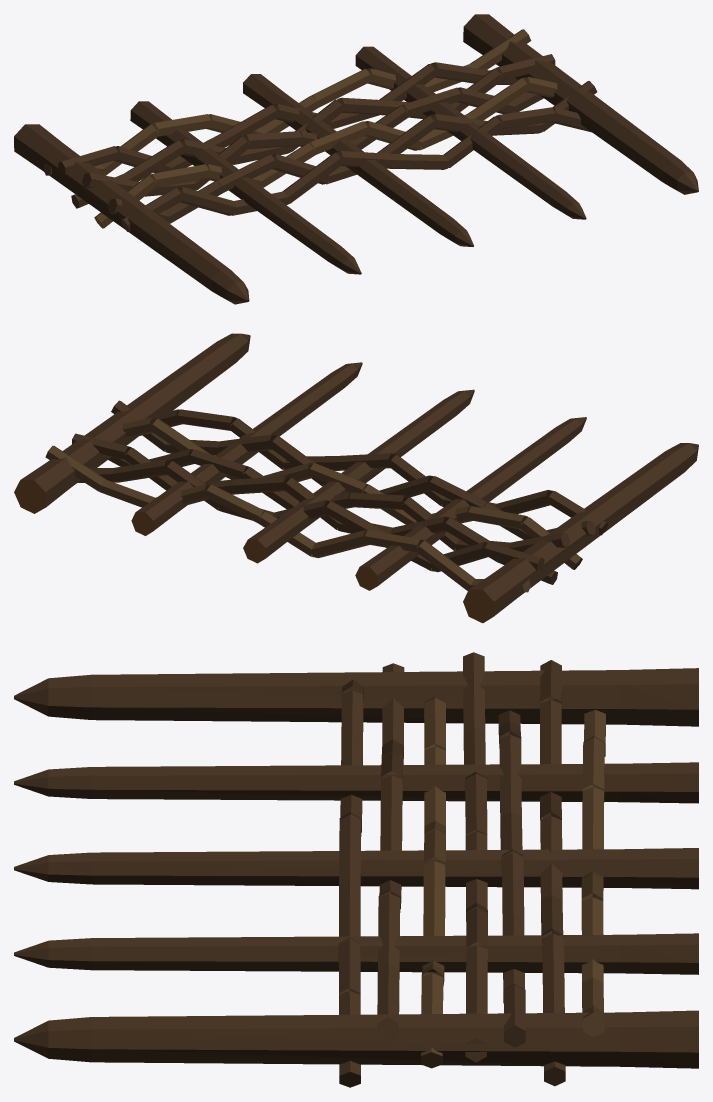
Rendered from SM_Wattle_Fence2m_1348_LOD1.obj.
3 views of the same model, one above another, from view 1: azimuth 30°, elevation 25°; view 2: azimuth 150°, elevation 25°; view 3: azimuth 270°, elevation 25° (orthographic). The views are drawn at different scales.
Parts seen in each view (by area): view 1: woven_horizontal_rods, hewn_vertical_stake, woven_horizontal_rods_cut; view 2: woven_horizontal_rods, hewn_vertical_stake, stake_bottom, woven_horizontal_rods_cut; view 3: hewn_vertical_stake, woven_horizontal_rods, woven_horizontal_rods_cut.
Boxes of the visible parts, bbox=[...] form: woven_horizontal_rods: bbox=[46, 29, 597, 231]; hewn_vertical_stake: bbox=[14, 14, 698, 304]; woven_horizontal_rods_cut: bbox=[43, 161, 129, 231]; woven_horizontal_rods: bbox=[45, 400, 607, 592]; hewn_vertical_stake: bbox=[21, 333, 698, 616]; stake_bottom: bbox=[14, 480, 493, 623]; woven_horizontal_rods_cut: bbox=[522, 520, 608, 592]; hewn_vertical_stake: bbox=[14, 668, 698, 1068]; woven_horizontal_rods: bbox=[338, 652, 605, 1075]; woven_horizontal_rods_cut: bbox=[339, 1012, 604, 1087].
Bounding box in the file's own units: 2.03 × 0.2019 × 1.59.
